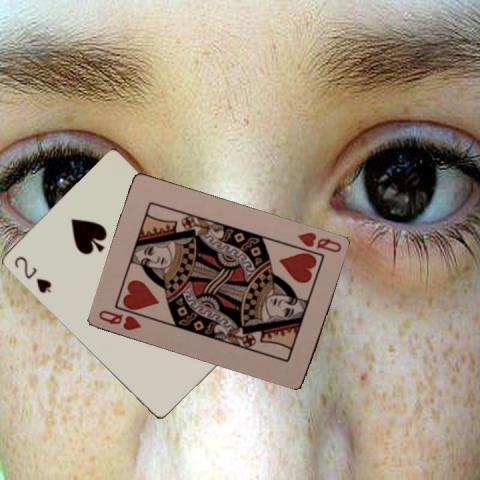2s: (12, 253, 54, 295)
Qh: (296, 229, 344, 254), (96, 307, 143, 332)
